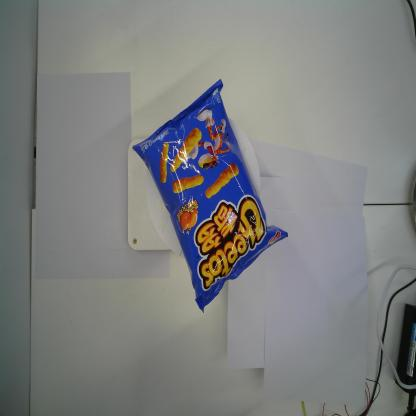Puffed Food: (130, 76, 289, 317)
